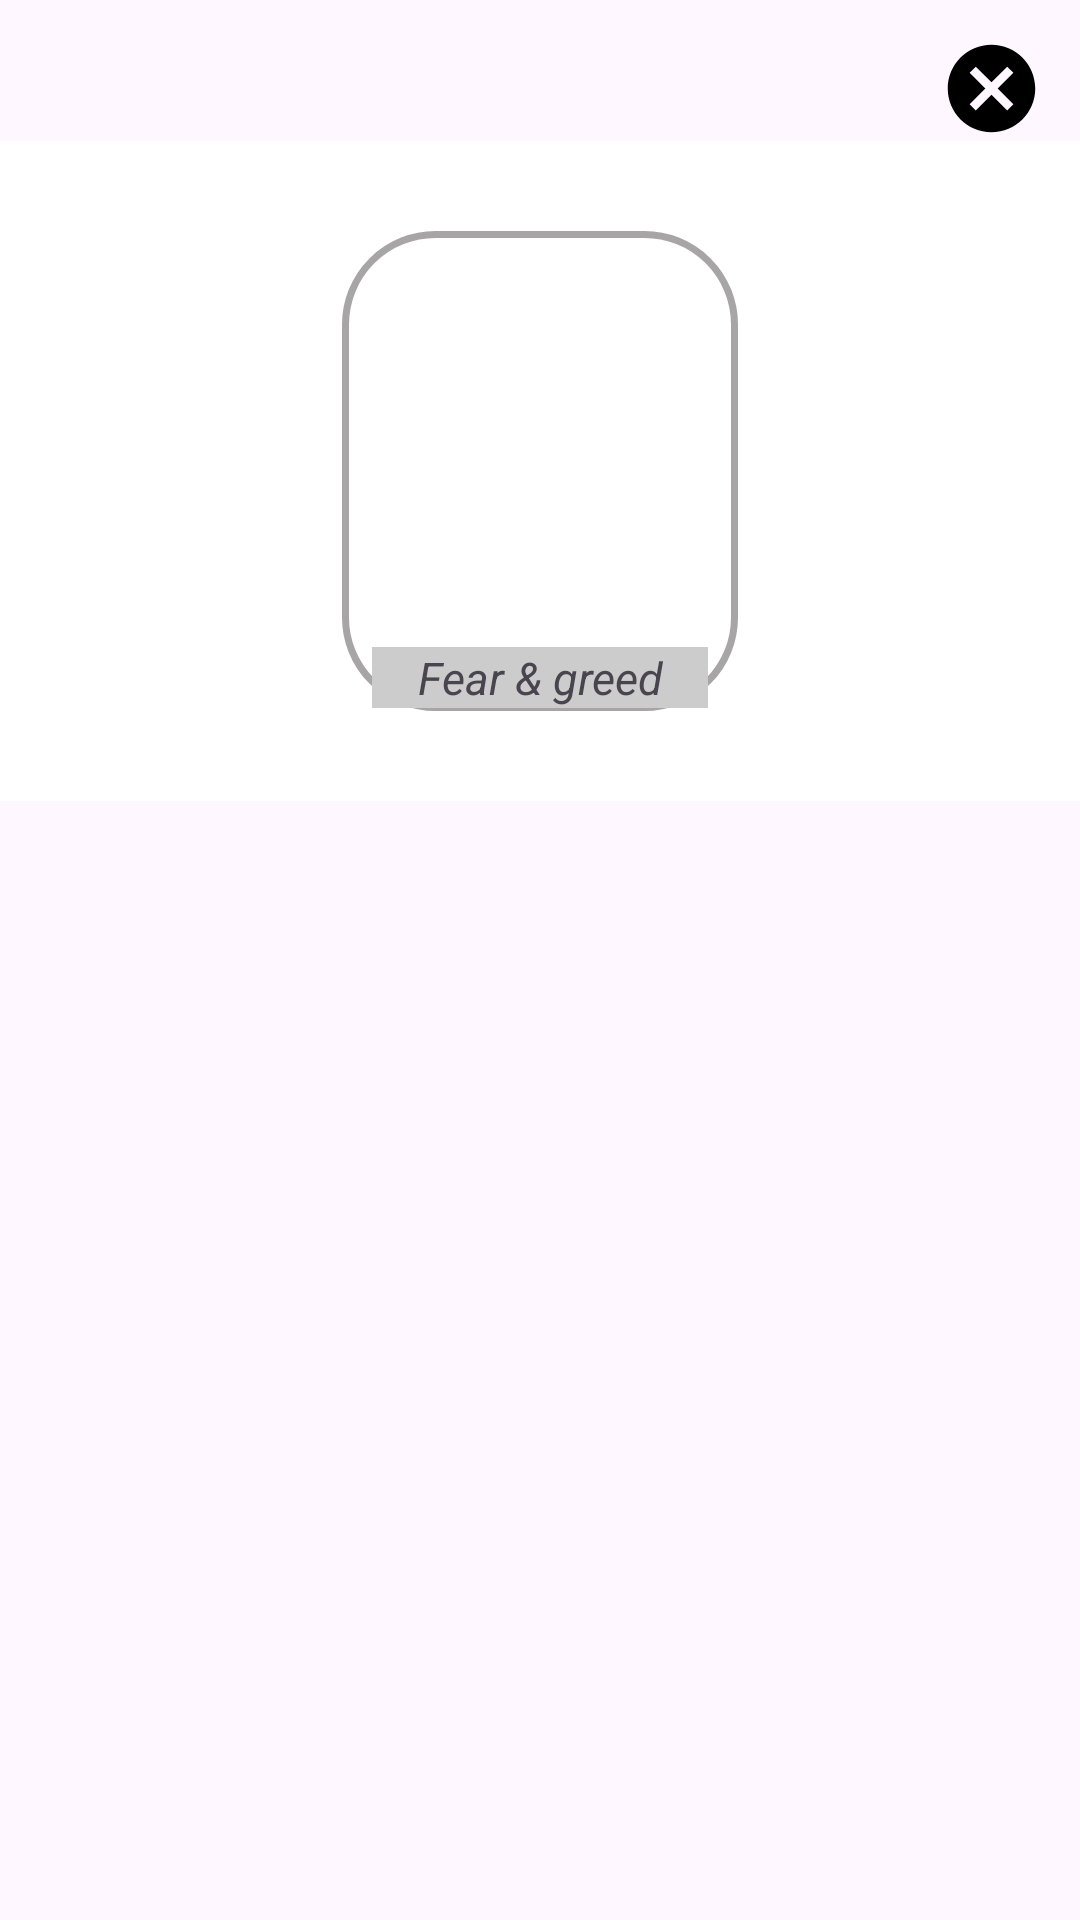

Where to tap for icons on this 1080x1920 app screen, as (x=x, y=y):
cancel: (x=991, y=88)
